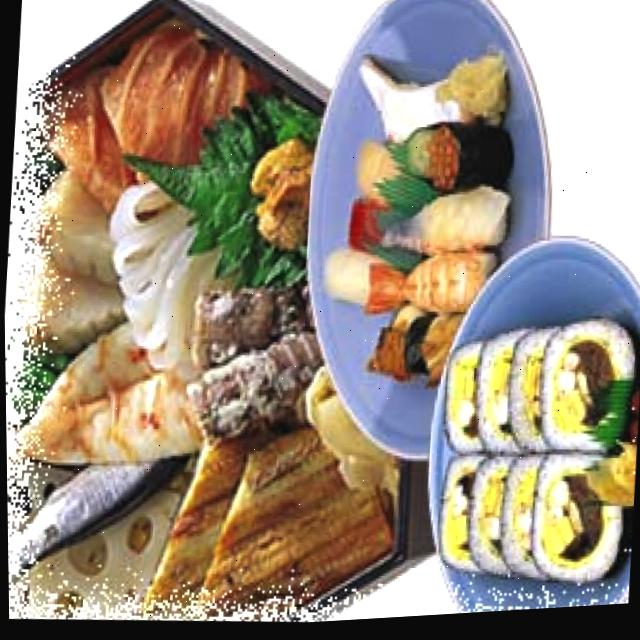寿司卷物: (326, 42, 512, 383)
